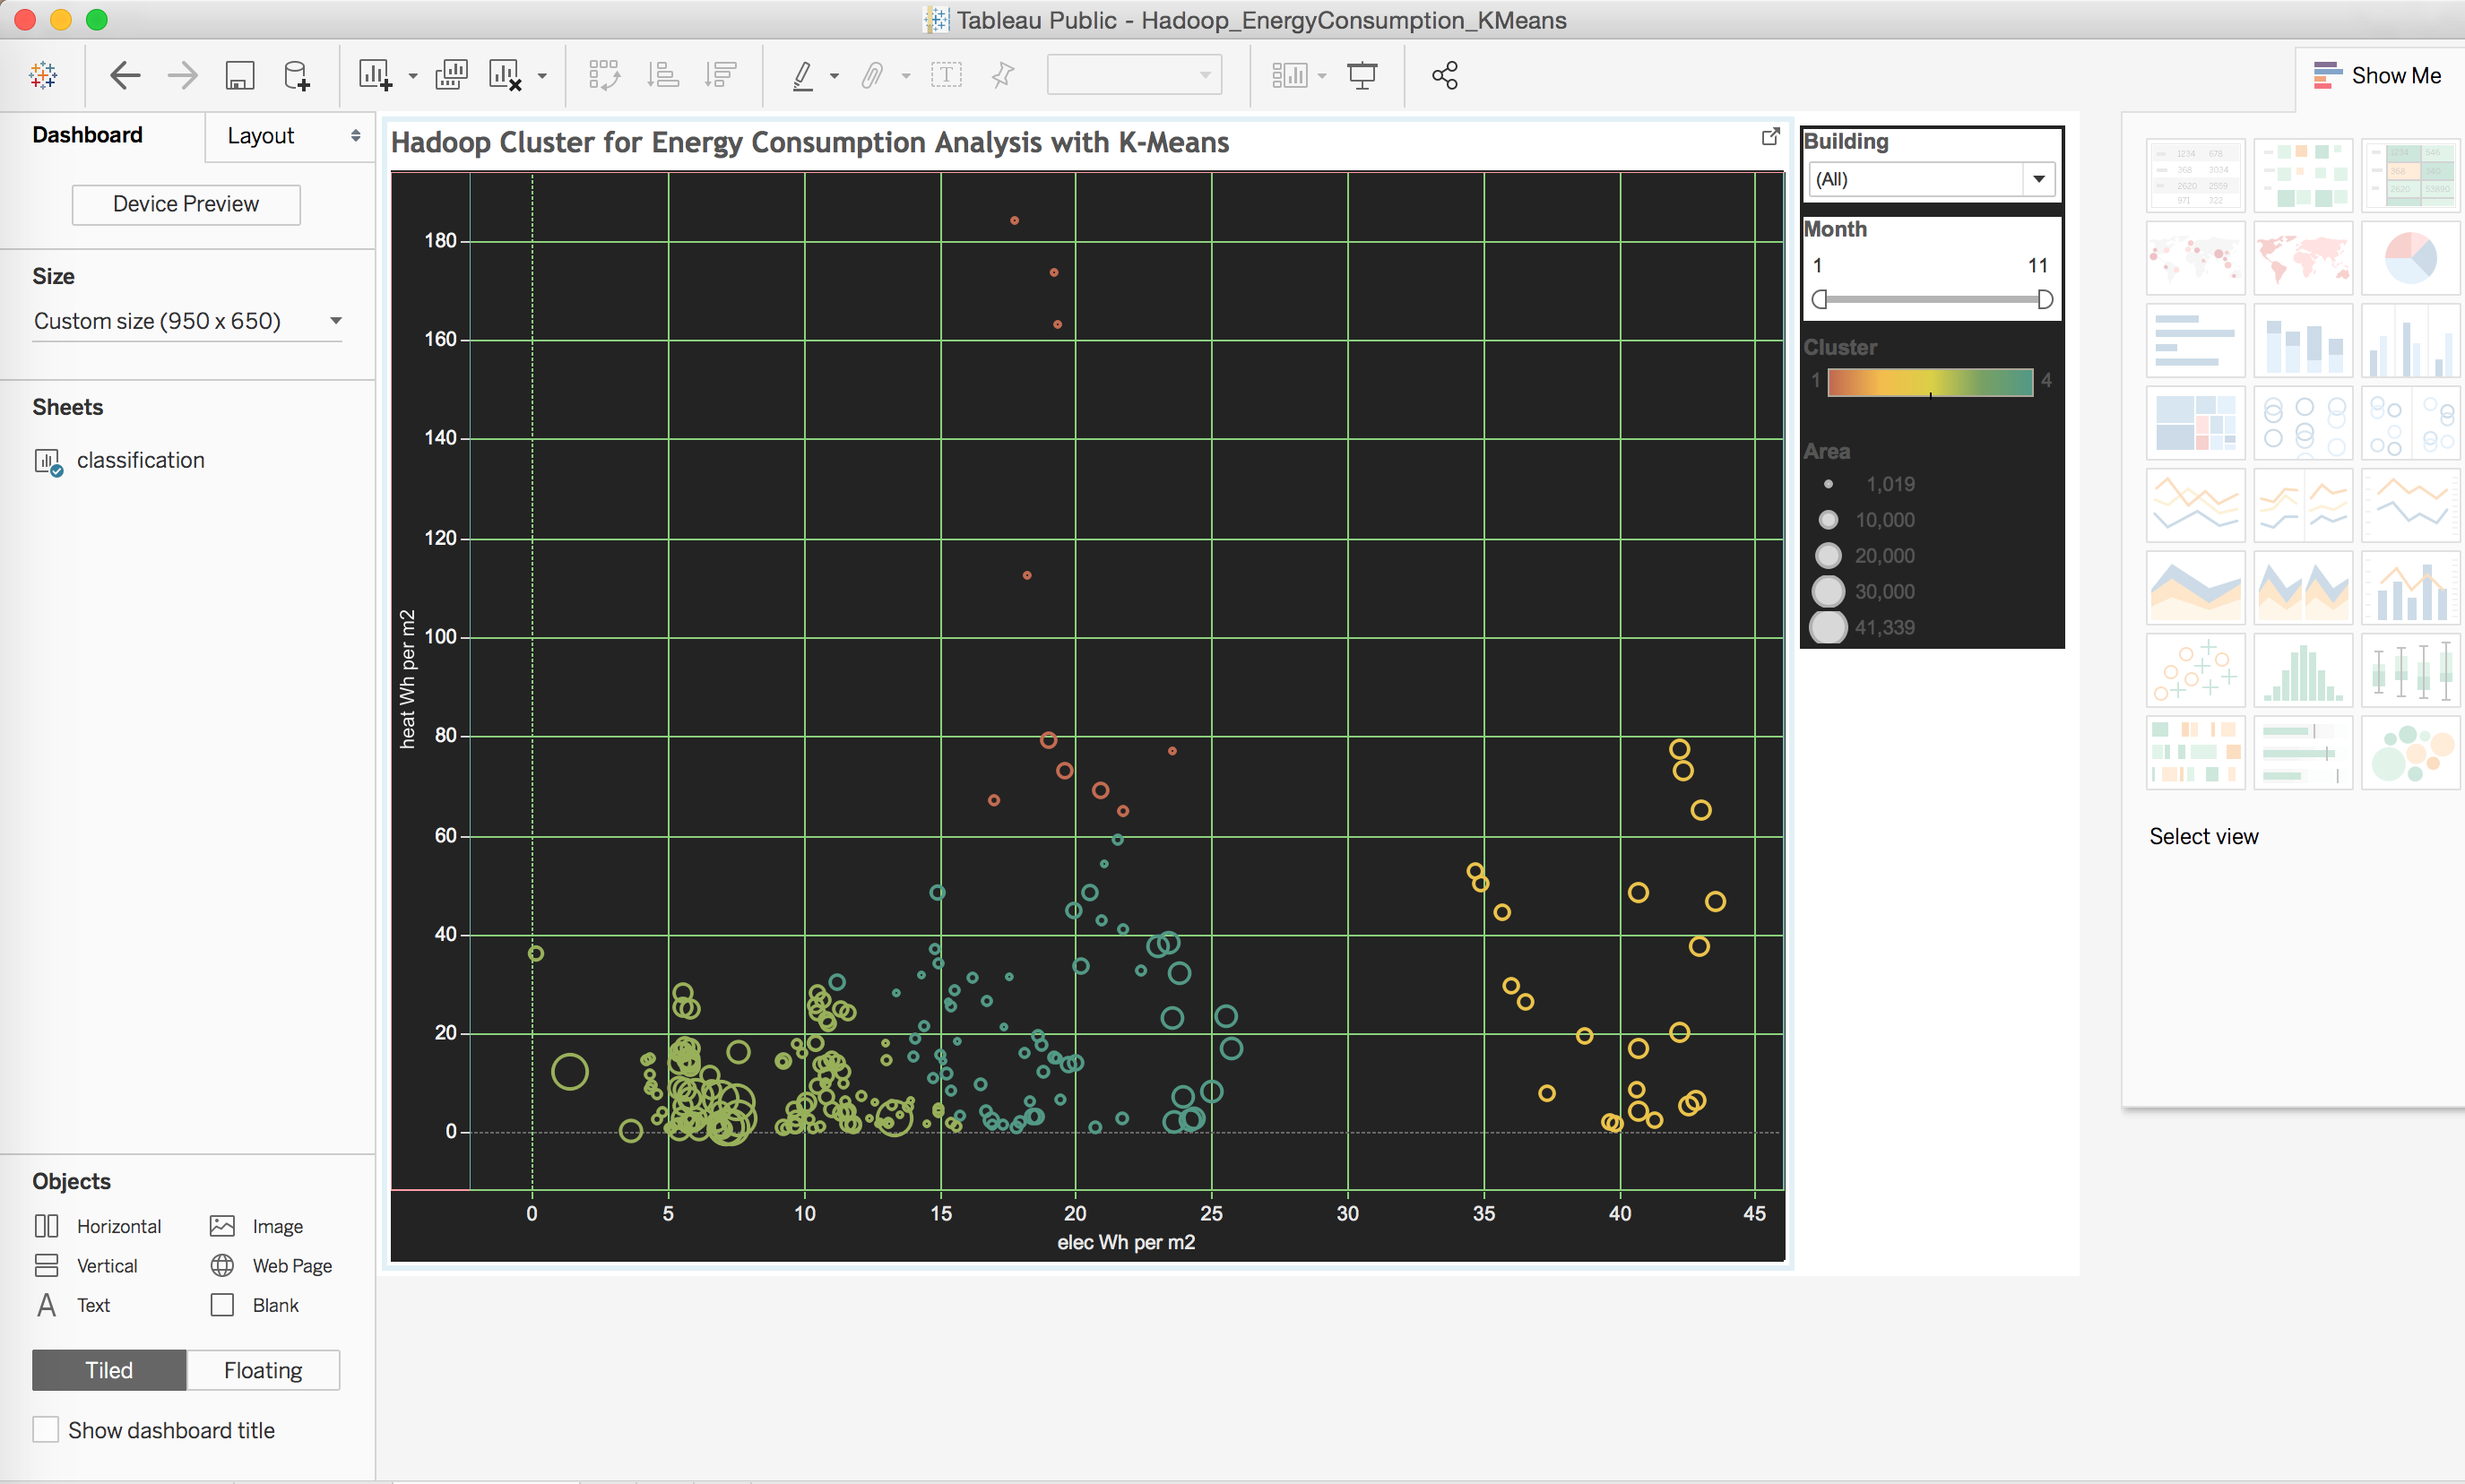

This screenshot's page, from the dashboard's own definition file:
{"tool":"tableau","page":{"name":"Dashboard 1","canvas":[800,600],"ordinal":0},"visuals":[{"type":"worksheet","title":"classification","mark":"Automatic","rows":["heat_Wh_per_m2"],"cols":["elec_Wh_per_m2"],"box":[0,0,640,600]},{"type":"filter","title":"classification","param":"[textscan.41913.973997222223].[none:building:ok]","box":[640,0,160,59]},{"type":"filter","title":"classification","param":"[textscan.41913.973997222223].[none:month:qk]","box":[640,59,160,69]},{"type":"legend","title":"classification","param":"[textscan.41913.973997222223].[sum:cluster:qk]","box":[640,128,160,63]},{"type":"legend","title":"classification","param":"[textscan.41913.973997222223].[sum:area:qk]","box":[640,191,160,126]}]}

Visuals, with their boxes on the page's 800x600 design canvas (x1, y1, x2, y2). These are canvas units, not pixel positions in the 2465x1484 screenshot, which may show the page scaled, cropped or inside an application window:
"classification" worksheet: <bbox>0, 0, 640, 600</bbox>
"classification" filter: <bbox>640, 0, 800, 59</bbox>
"classification" filter: <bbox>640, 59, 800, 128</bbox>
"classification" legend: <bbox>640, 128, 800, 191</bbox>
"classification" legend: <bbox>640, 191, 800, 317</bbox>
